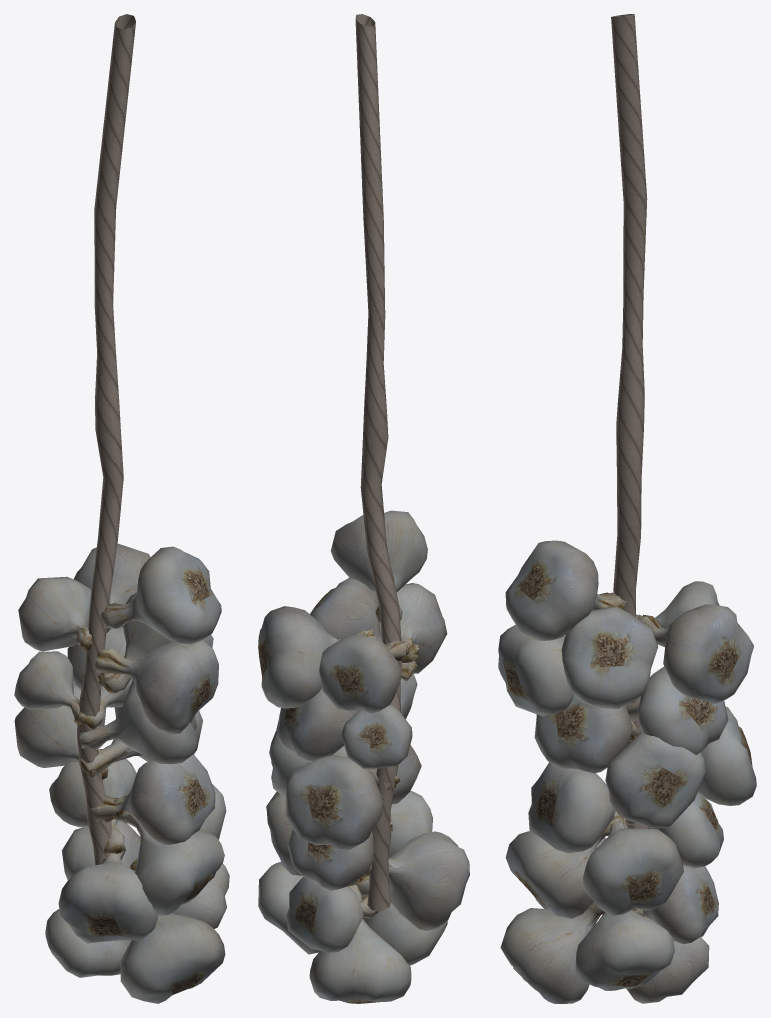
File: SM_GarlicBraid3.fbx
3 views of the same model, side by side, from view 1: azimuth 30°, elevation 25°; view 2: azimuth 150°, elevation 25°; view 3: azimuth 270°, elevation 25° (orthographic). The views are drawn at different scales.
Parts seen in each view (by area): view 1: SM_GarlicBraid3_LOD0; view 2: SM_GarlicBraid3_LOD0; view 3: SM_GarlicBraid3_LOD0.
Boxes of the visible parts, x1,y1,x2,y2 form: SM_GarlicBraid3_LOD0: [14, 14, 229, 1003]; SM_GarlicBraid3_LOD0: [258, 14, 469, 1003]; SM_GarlicBraid3_LOD0: [498, 14, 756, 1003].
Size of the model in its own units: 21.23 by 26.01 by 110.
